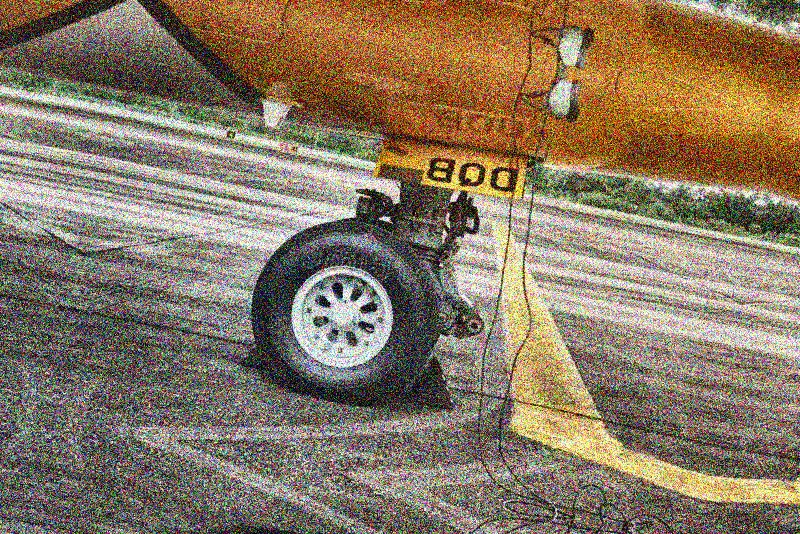chock: (402, 349, 465, 411)
wheel: (239, 202, 461, 418)
